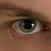eye: (20, 19, 37, 33)
